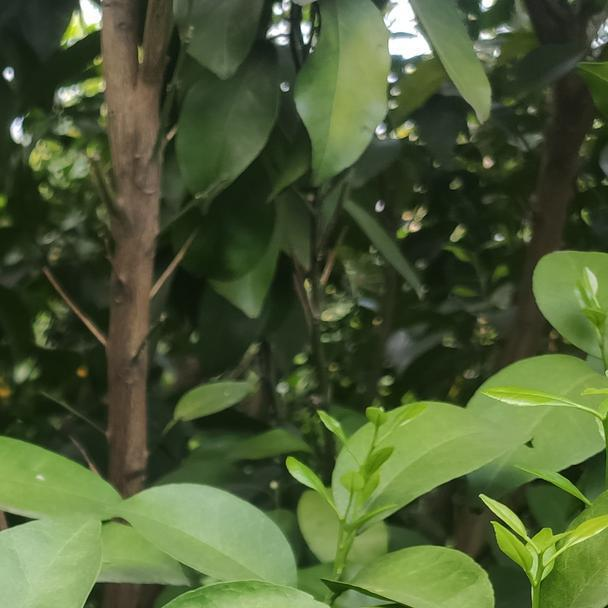shoot: (300, 378, 415, 568), (484, 482, 608, 608)
